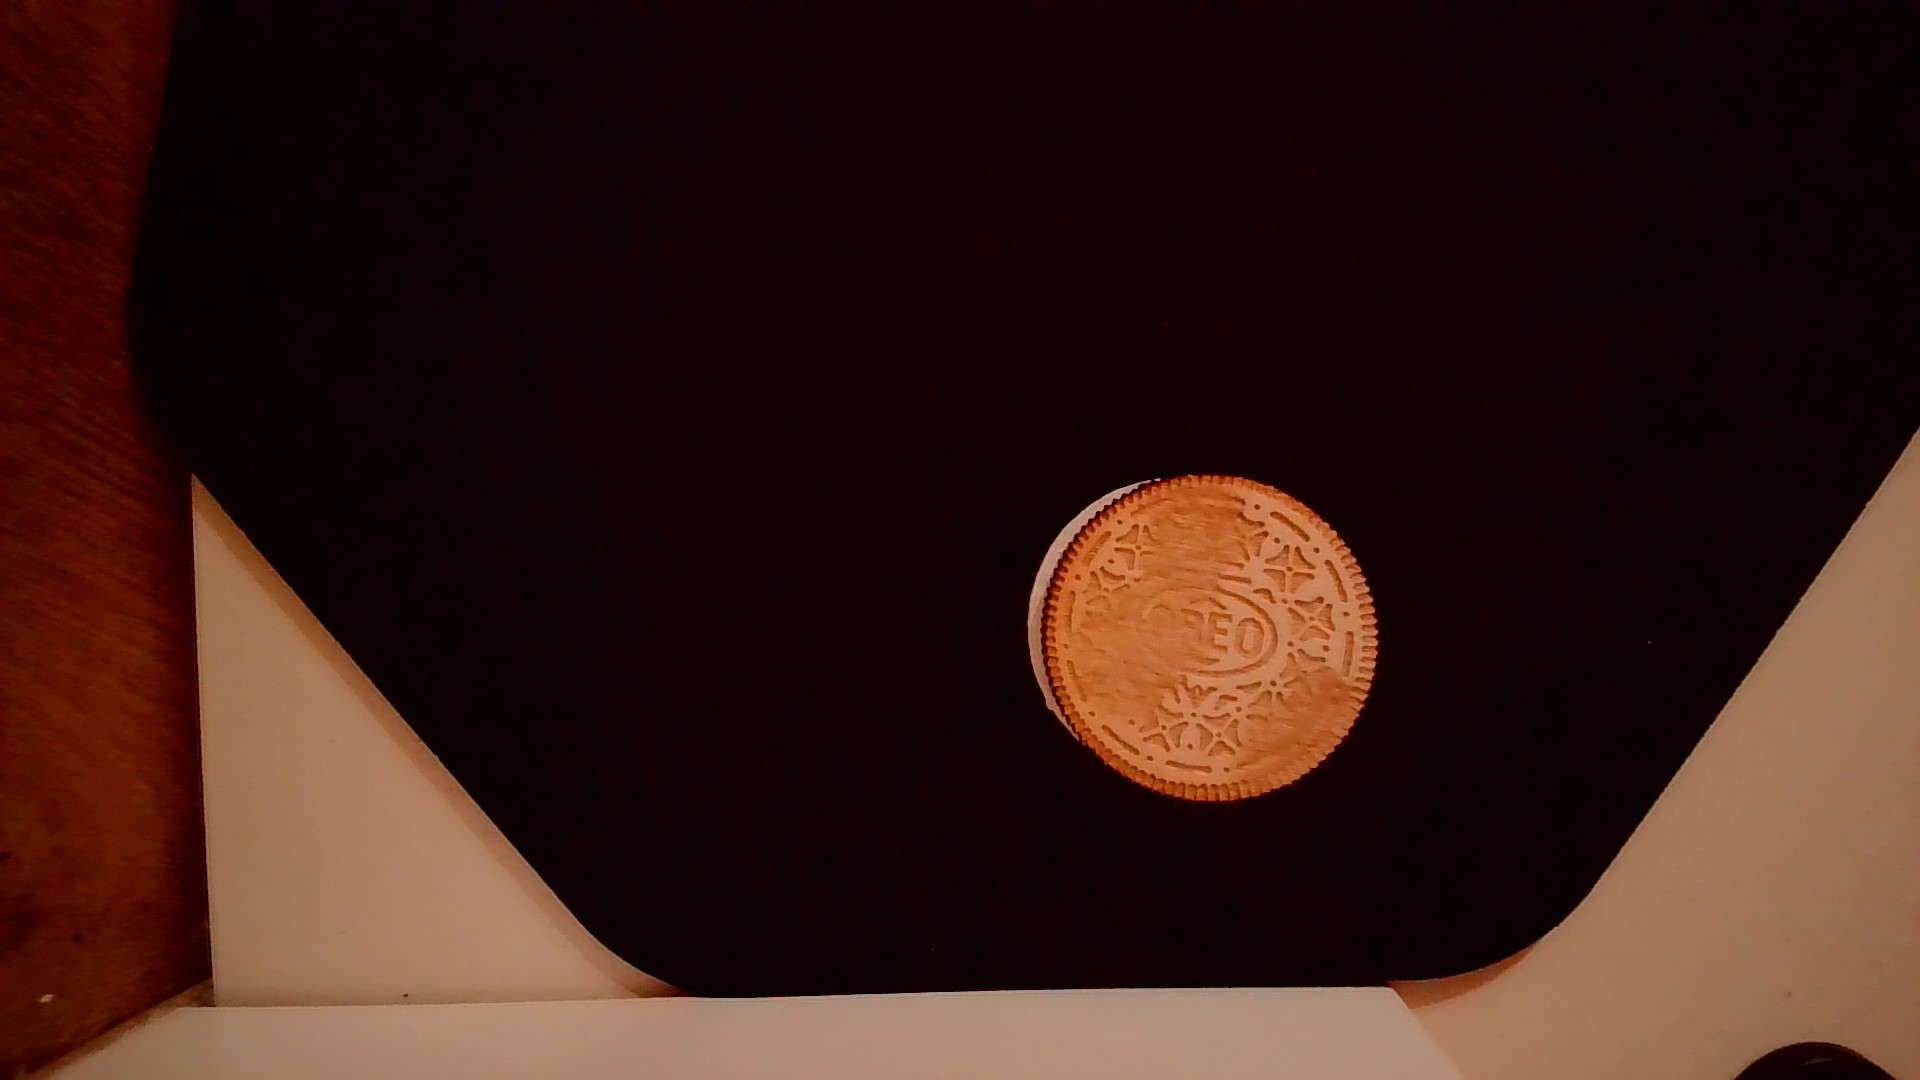Décalé: (1009, 469, 1156, 731)
Effacé: (1065, 491, 1255, 737), (1230, 663, 1360, 810)
Oréo: (1021, 465, 1385, 814)
